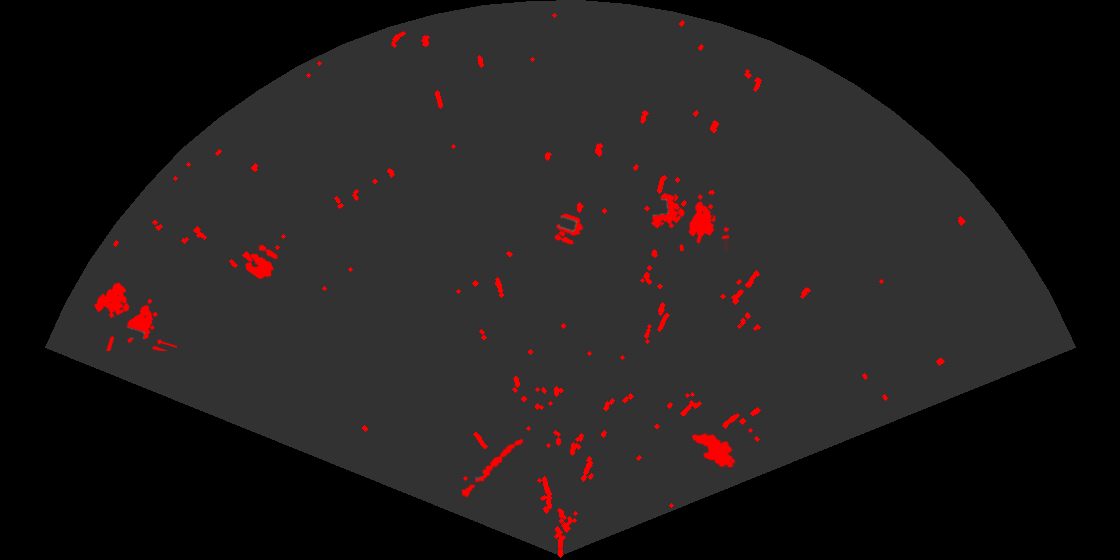AUV: (690, 431, 737, 469)
ball: (244, 243, 279, 281), (553, 211, 585, 246)
cage: (92, 281, 177, 351), (649, 191, 729, 251)
chain: (453, 437, 525, 503)
